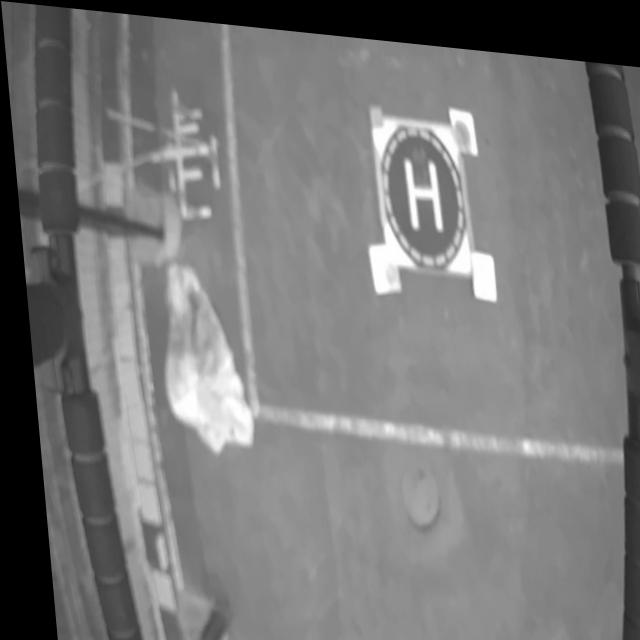Helipad: (399, 147, 440, 223)
